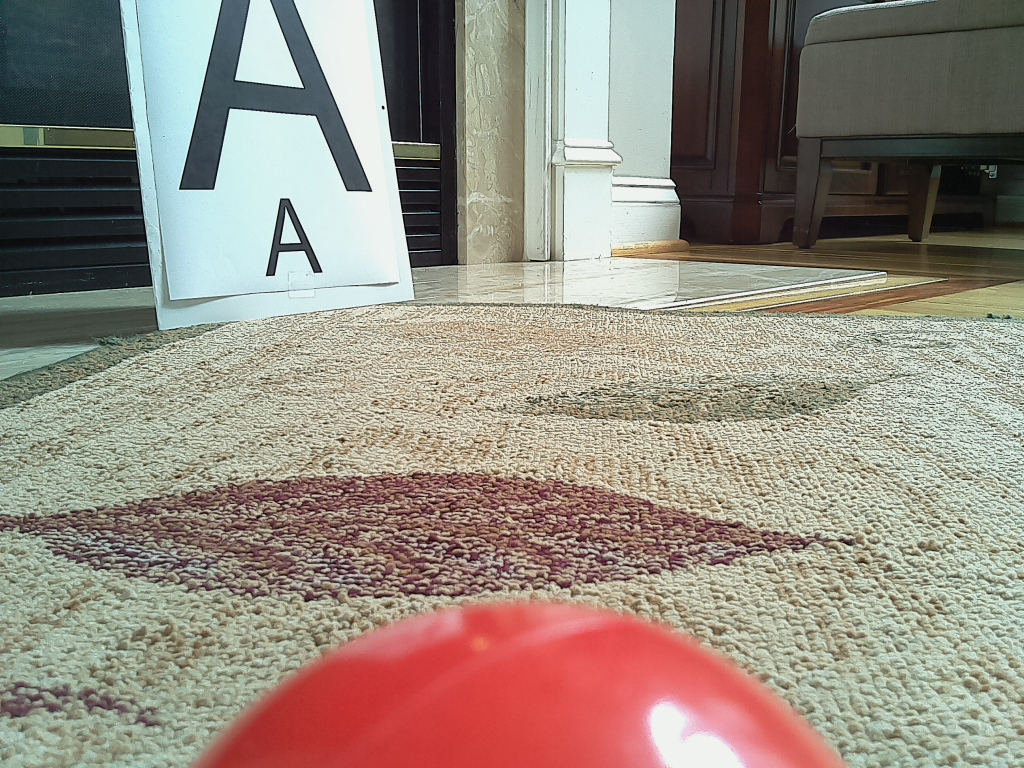letter: (176, 1, 373, 191)
